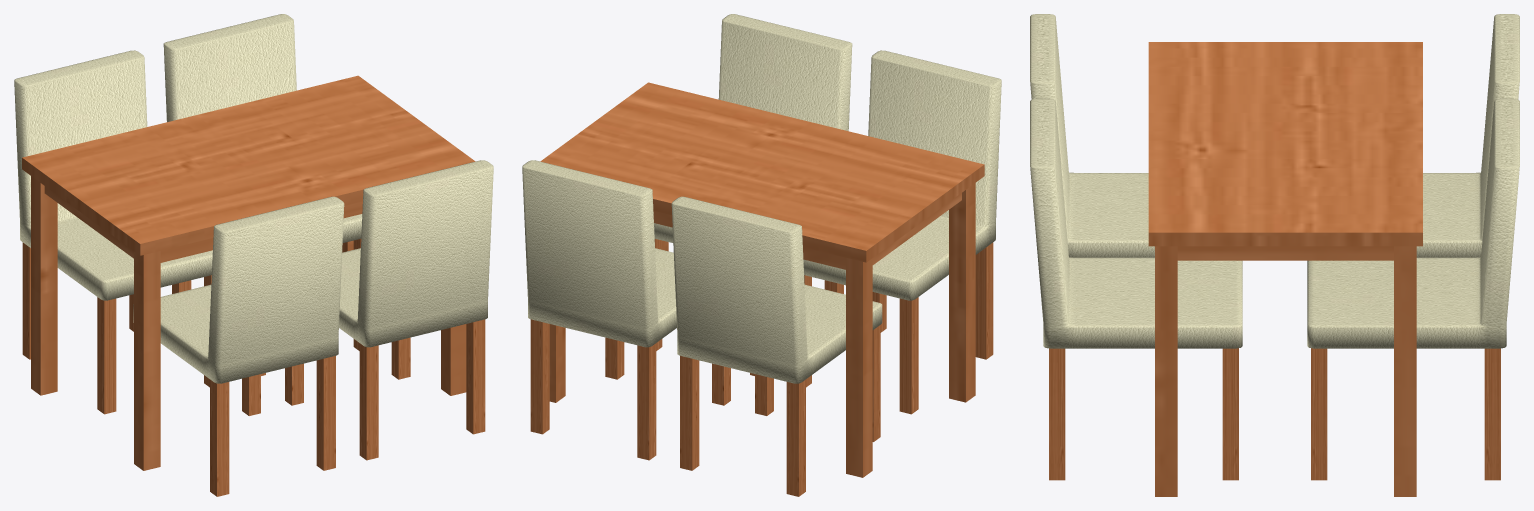
The model's file is dining-set.glb.
3 views of the same model, side by side, from view 1: azimuth 30°, elevation 25°; view 2: azimuth 150°, elevation 25°; view 3: azimuth 270°, elevation 25° (orthographic). The views are drawn at different scales.
Parts seen in each view (by area): view 1: Table_1, ChairSeat1_3, ChairSeat2_5, ChairSeat4_9, ChairSeat3_7, ChairLegs2_4, ChairLegs1_2, ChairLegs4_8; view 2: Table_1, ChairSeat4_9, ChairSeat3_7, ChairSeat1_3, ChairSeat2_5, ChairLegs4_8, ChairLegs3_6, ChairLegs1_2; view 3: Table_1, ChairSeat2_5, ChairSeat3_7, ChairSeat1_3, ChairSeat4_9, ChairLegs2_4, ChairLegs3_6.
Boxes of the visible parts, x1=… form: Table_1: x1=22, y1=75, x2=475, y2=470; ChairSeat1_3: x1=133, y1=196, x2=344, y2=383; ChairSeat2_5: x1=339, y1=160, x2=493, y2=347; ChairSeat4_9: x1=14, y1=50, x2=212, y2=300; ChairSeat3_7: x1=163, y1=14, x2=362, y2=242; ChairLegs2_4: x1=285, y1=319, x2=485, y2=460; ChairLegs1_2: x1=210, y1=356, x2=335, y2=496; ChairLegs4_8: x1=22, y1=242, x2=211, y2=414; Table_1: x1=540, y1=82, x2=984, y2=477; ChairSeat4_9: x1=671, y1=196, x2=882, y2=383; ChairSeat3_7: x1=522, y1=160, x2=676, y2=347; ChairSeat1_3: x1=803, y1=50, x2=1001, y2=300; ChairSeat2_5: x1=654, y1=14, x2=852, y2=242; ChairLegs4_8: x1=680, y1=325, x2=880, y2=496; ChairLegs3_6: x1=530, y1=319, x2=730, y2=460; ChairLegs1_2: x1=804, y1=242, x2=993, y2=414; Table_1: x1=1148, y1=42, x2=1422, y2=496; ChairSeat2_5: x1=1030, y1=98, x2=1242, y2=348; ChairSeat3_7: x1=1307, y1=98, x2=1519, y2=348; ChairSeat1_3: x1=1030, y1=14, x2=1154, y2=257; ChairSeat4_9: x1=1416, y1=14, x2=1519, y2=257; ChairLegs2_4: x1=1049, y1=348, x2=1238, y2=480; ChairLegs3_6: x1=1311, y1=348, x2=1500, y2=480.
Size of the model in its own units: 1.2 by 0.9236 by 1.3.
Materials: 2 (2 with a texture image).
